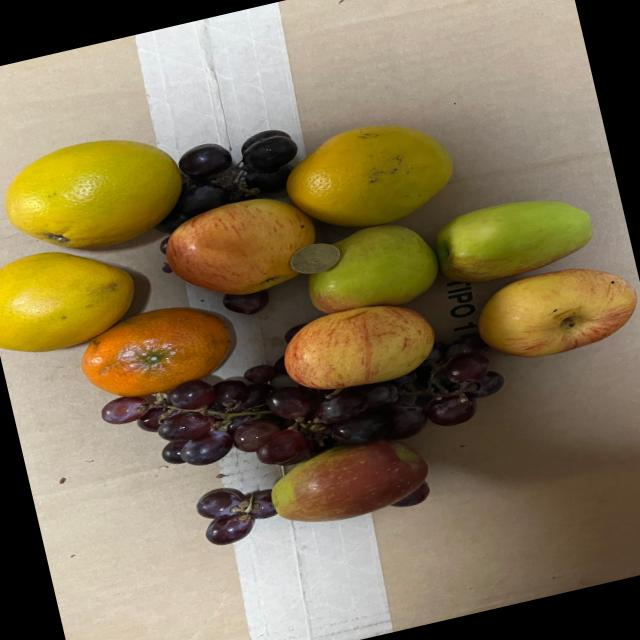moneda: (284, 234, 344, 278)
